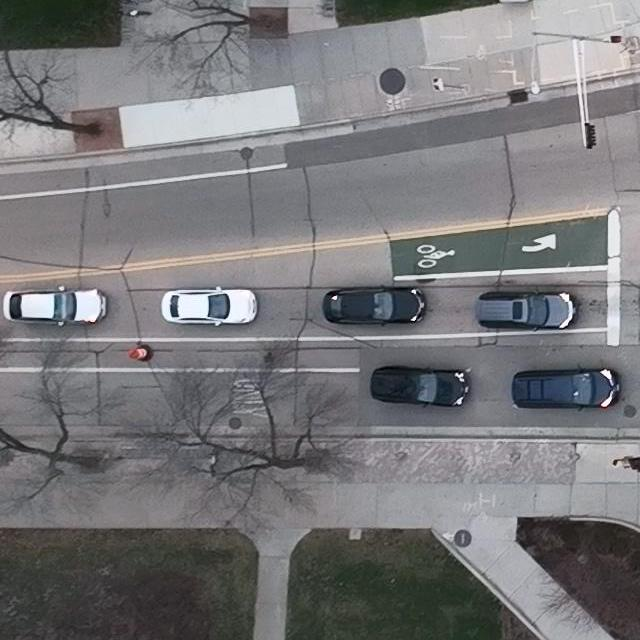car: (511, 364, 620, 413), (476, 287, 577, 333), (370, 364, 472, 409), (323, 282, 427, 326), (2, 285, 109, 327), (159, 286, 258, 328)
